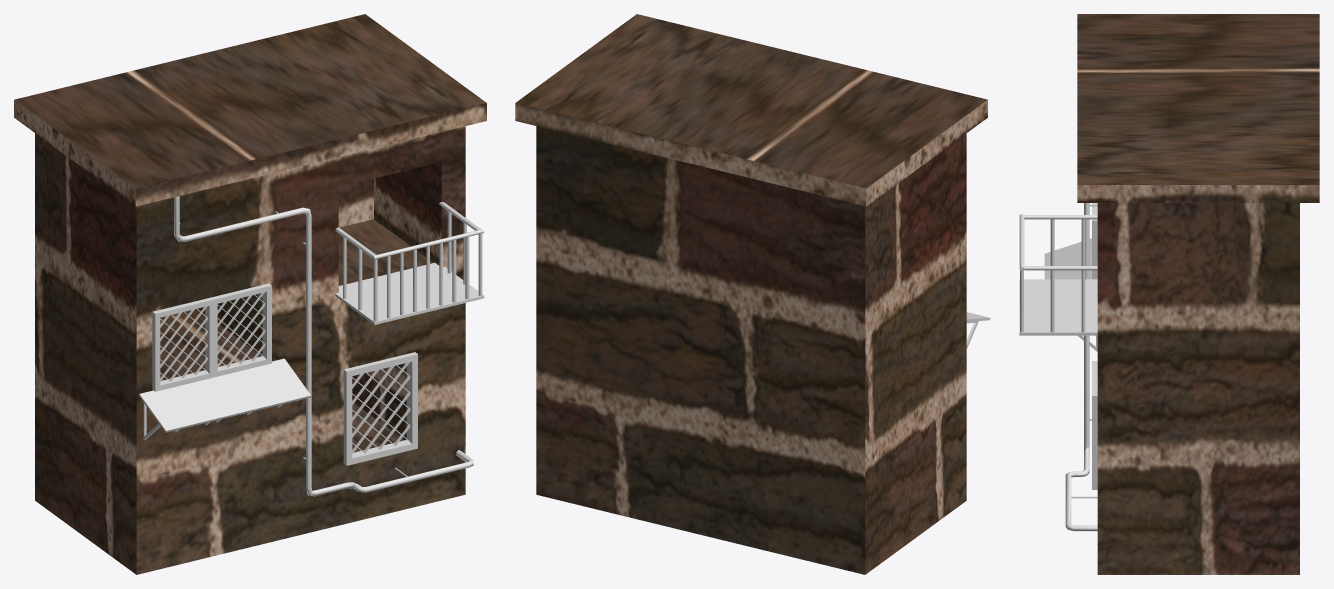
The model's file is alleybuilding2.FBX.
The picture shows the model from 3 angles, left to right: view 1: azimuth 30°, elevation 25°; view 2: azimuth 150°, elevation 25°; view 3: azimuth 270°, elevation 25°; orthographic projection.
Parts seen in each view (by area): view 1: building, window, frame2, frame, pole; view 2: building; view 3: building, frame2, pole, frame, window.
Part boxes in pixels (left/top/right/bottom): building: left=14, top=14, right=486, bottom=574; window: left=152, top=283, right=417, bottom=465; frame2: left=335, top=202, right=484, bottom=324; frame: left=139, top=358, right=311, bottom=440; pole: left=174, top=196, right=473, bottom=496; building: left=515, top=14, right=987, bottom=574; building: left=1077, top=14, right=1319, bottom=574; frame2: left=1019, top=214, right=1097, bottom=335; pole: left=1065, top=203, right=1097, bottom=531; frame: left=1044, top=238, right=1097, bottom=351; window: left=1092, top=203, right=1097, bottom=489.
Bounding box in the file's own units: 145 × 157 × 108.
1 material, 1 textured.
